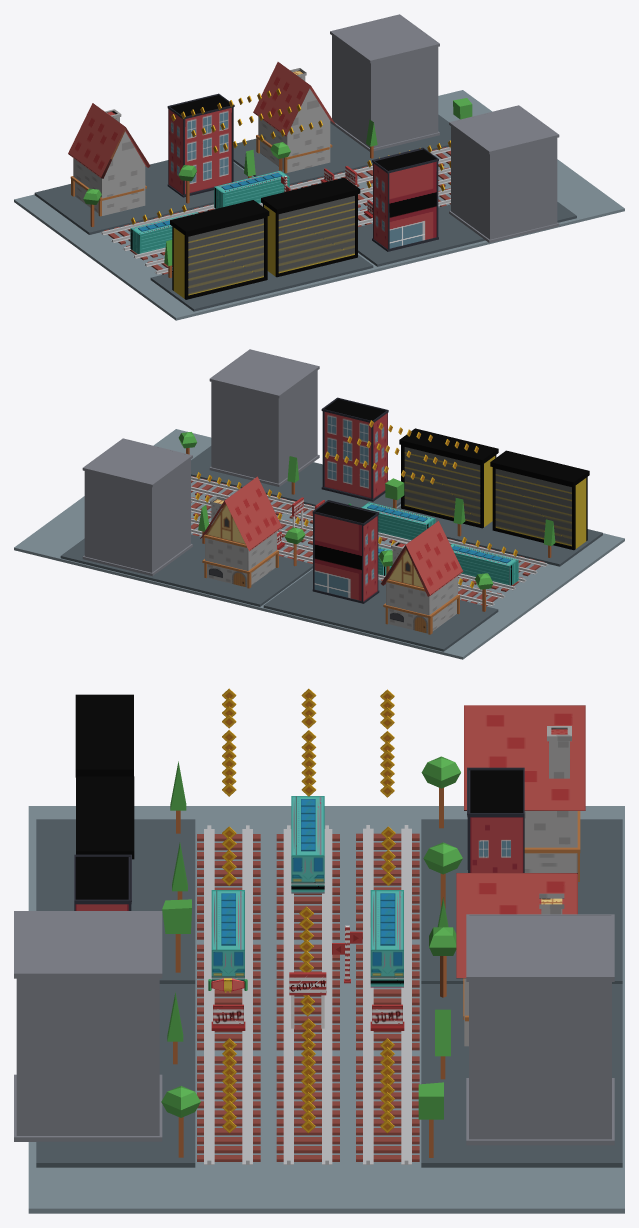
Rendered from kit 5.fbx.
3 renders of one model, top to bottom at view 1: azimuth 30°, elevation 25°; view 2: azimuth 150°, elevation 25°; view 3: azimuth 270°, elevation 25°, orthographic. The views are drawn at different scales.
Parts seen in each view (by area): view 1: Cube.137, Cube.132, ground.004, Cube.131, Cube.151, Cylinder.007, Cube.146, Cylinder.008, Cube.133, Cube.136, Cube.149, Cube.147 (+5 smaller); view 2: Cube.132, Cube.137, ground.004, Cube.131, Cube.151, Cylinder.007, Cylinder.008, Cube.133, Cube.136, Cube.146, Cube.149, Cube.150 (+7 smaller); view 3: ground.004, Cube.132, Cube.137, Cylinder.007, Cube.149, Cube.147, Cube.136, Cube.150, Cylinder.008, Cube.133, Cube.152, Cube.144 (+23 smaller).
Part boxes in pixels (box(x1,y1,x2,y2)): Cube.137: box(449, 105, 559, 243); Cube.132: box(330, 14, 439, 151); ground.004: box(14, 90, 624, 320); Cube.131: box(170, 200, 269, 299); Cube.151: box(261, 177, 360, 277); Cylinder.007: box(68, 103, 150, 216); Cube.146: box(372, 147, 438, 251); Cylinder.008: box(253, 62, 335, 173); Cube.133: box(167, 93, 234, 197); Cube.136: box(34, 160, 252, 234); Cube.149: box(233, 114, 450, 184); Cube.147: box(150, 255, 373, 311); Cube.132: box(82, 438, 192, 576); Cube.137: box(209, 349, 319, 486); ground.004: box(14, 429, 624, 659); Cube.131: box(490, 450, 589, 550); Cube.151: box(399, 428, 498, 528); Cylinder.007: box(381, 521, 463, 634); Cylinder.008: box(200, 476, 282, 588); Cube.133: box(312, 500, 379, 603); Cube.136: box(263, 569, 498, 651); Cube.146: box(321, 397, 388, 501); Cube.149: box(60, 534, 312, 606); Cube.150: box(191, 446, 400, 507); ground.004: box(28, 806, 624, 1213); Cube.132: box(466, 914, 614, 1145); Cube.137: box(14, 911, 162, 1141); Cylinder.007: box(464, 705, 585, 881); Cube.149: box(421, 984, 622, 1167); Cube.147: box(36, 819, 195, 983); Cube.136: box(421, 819, 622, 983); Cube.150: box(36, 984, 195, 1167); Cylinder.008: box(456, 873, 577, 1046); Cube.133: box(467, 767, 524, 872); Cube.152: box(276, 1047, 339, 1164); Cube.144: box(197, 1047, 260, 1164).
Size of the model in its own units: 3600 by 859 by 2307.
